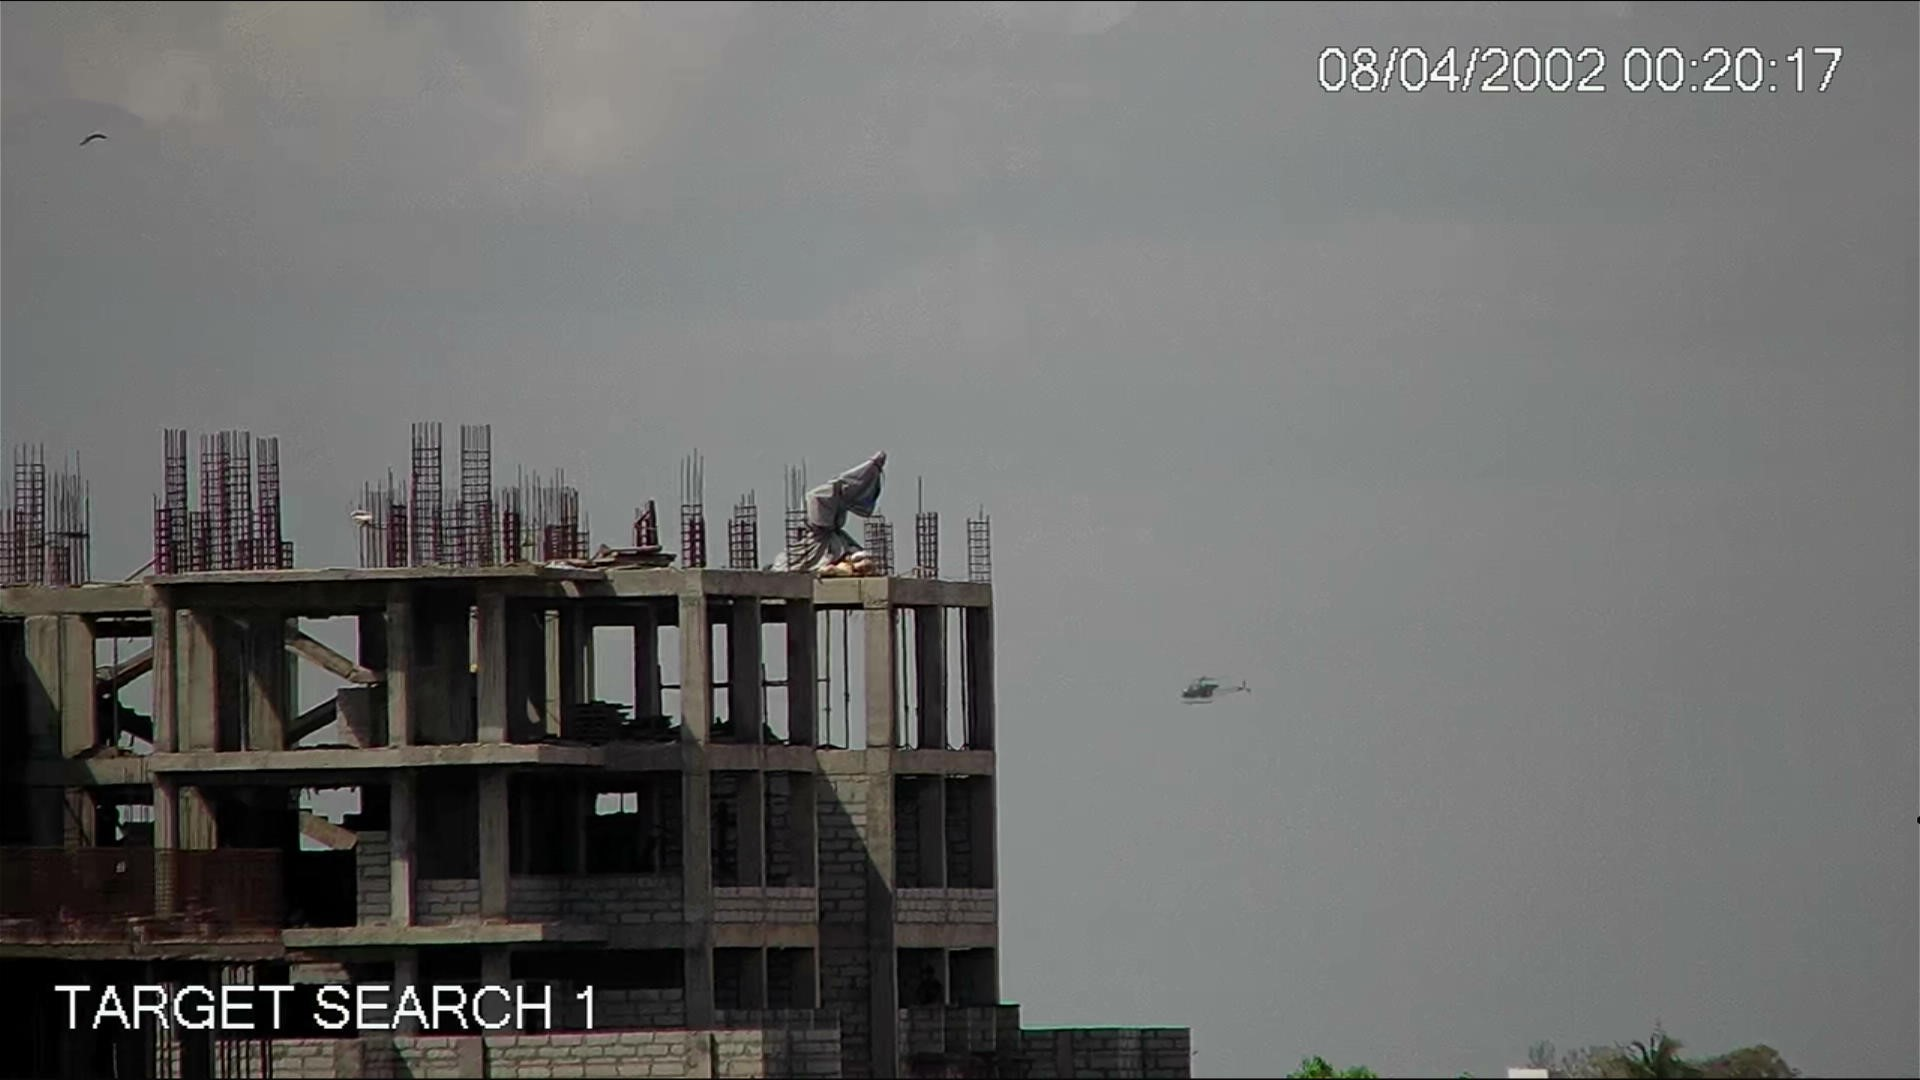SU_30: (1174, 674, 1251, 712)
